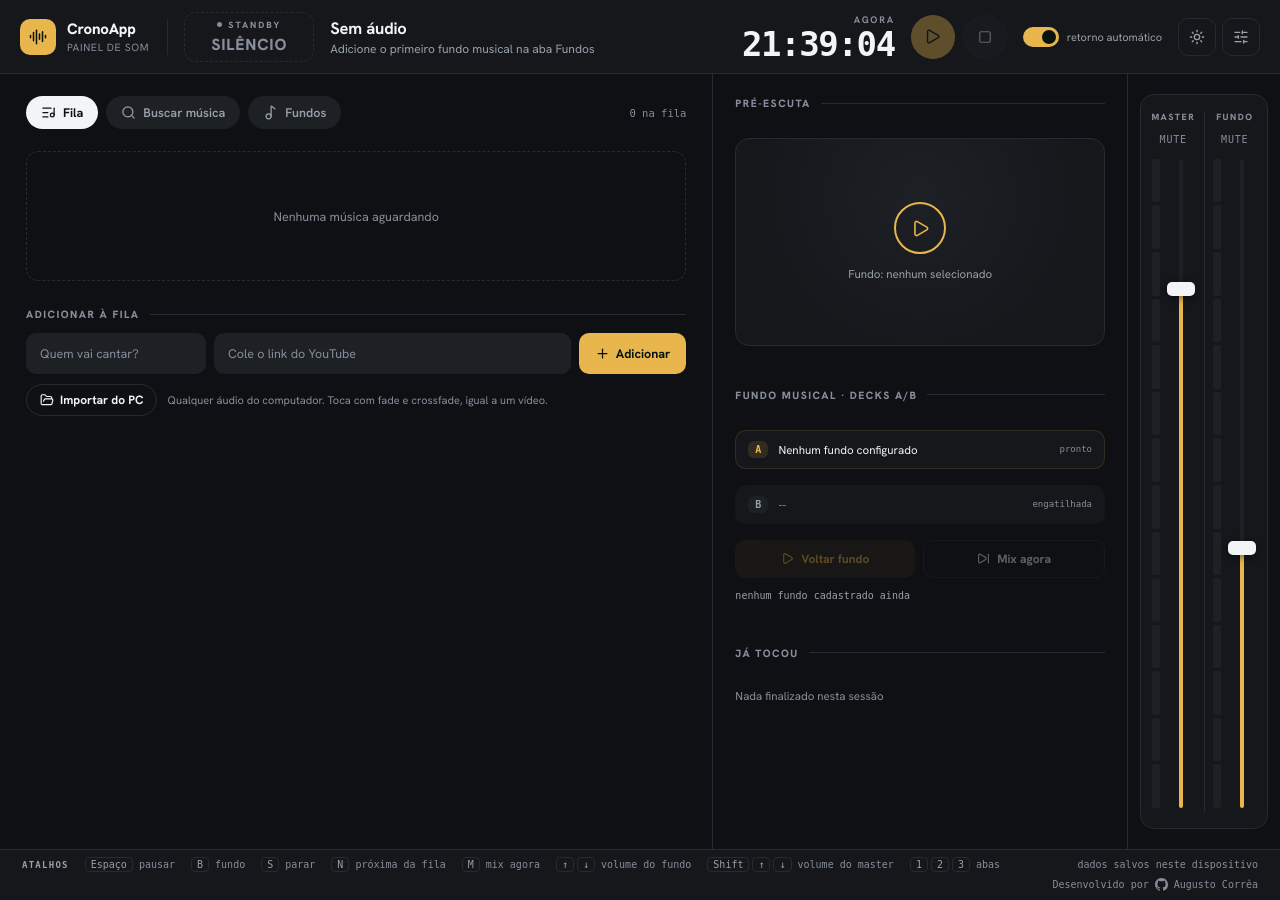
Test: adicionar à fila (RF-01.1) › aceita o link colado e extrai o id do vídeo
The width and height of the screenshot is (1280, 900).
Type "Ana" into the field named "Nome da pessoa" at (116, 354), box x1=26 y1=333 x2=206 y2=374
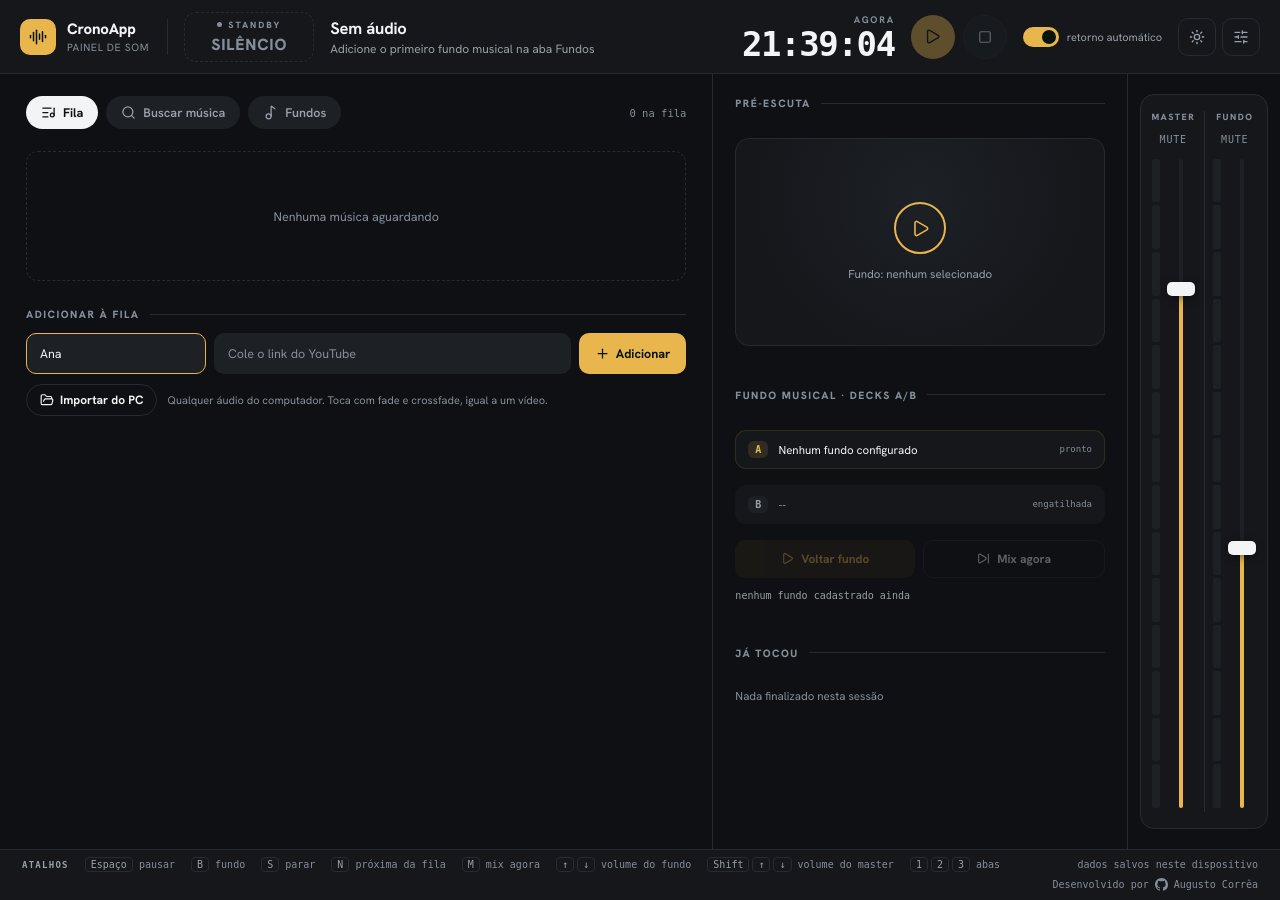
Type "https://www.youtube.com/watch?v=dQw4w9WgXcQ" into the field labelled "link do YouTube" at (392, 354), box x1=214 y1=333 x2=571 y2=374
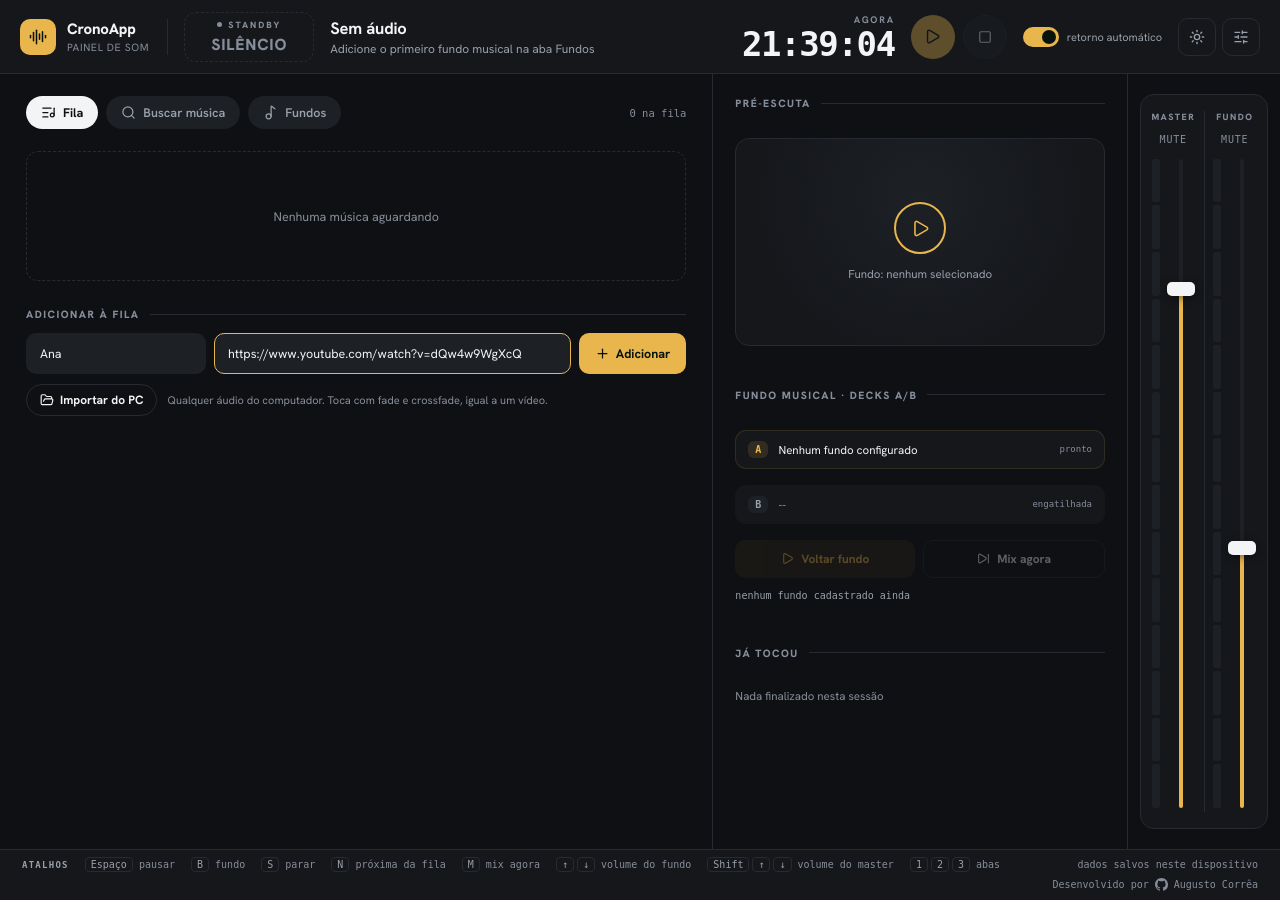
Click the button "Adicionar" at (633, 354), box x1=579 y1=333 x2=686 y2=374
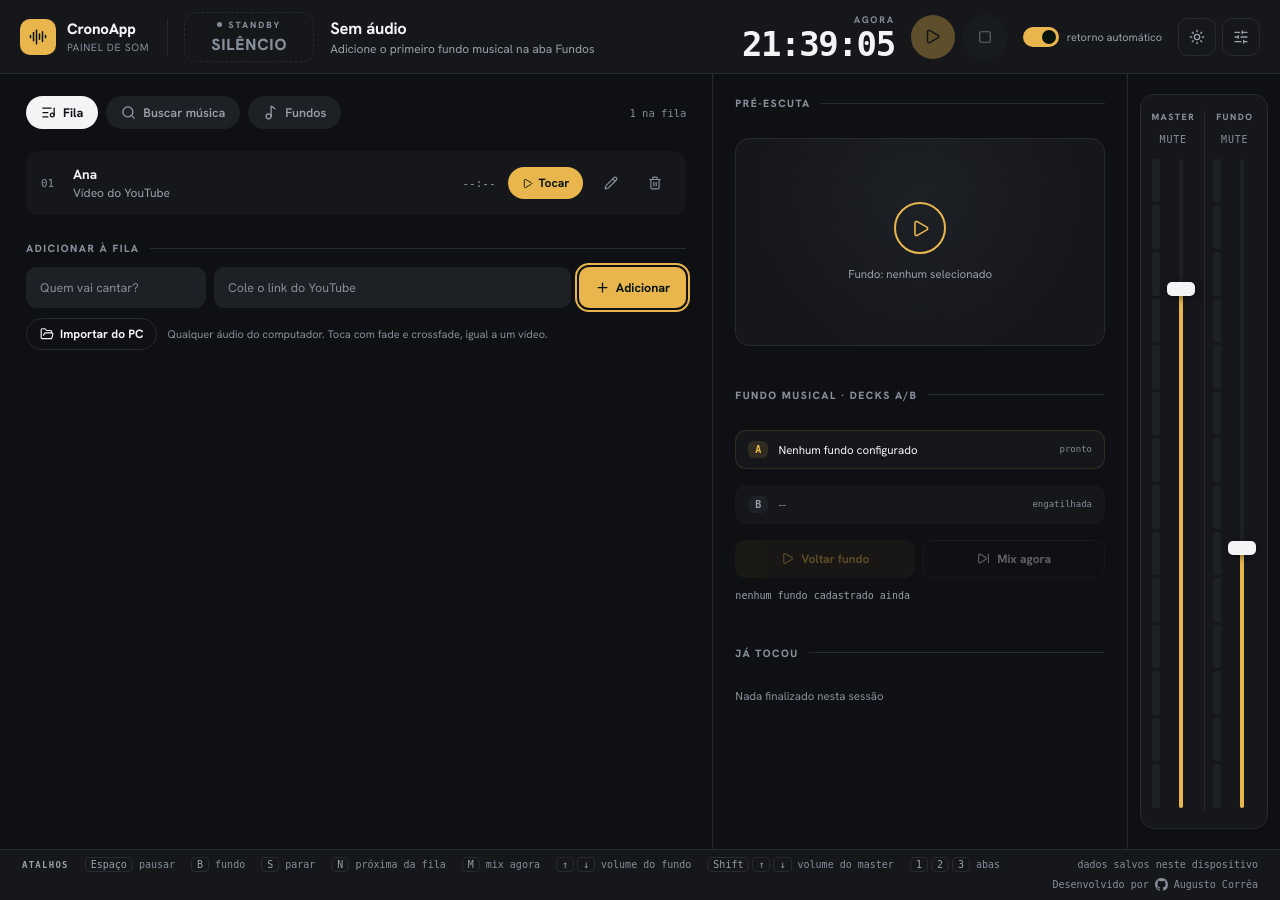
Check: the text "Ana" is shown, box x1=73 y1=165 x2=97 y2=183
Check: the text "1 na fila" is shown, box x1=630 y1=106 x2=686 y2=118
